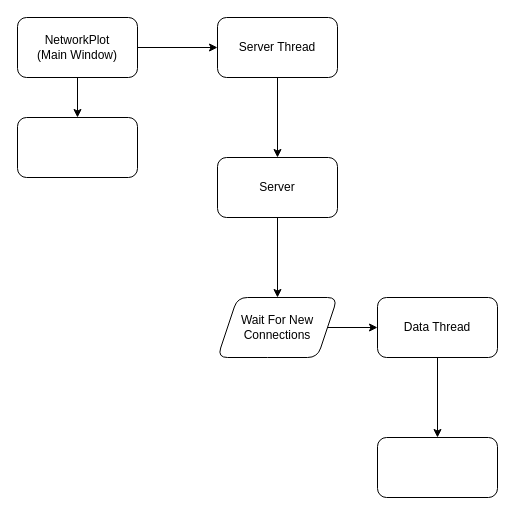
Image size: 515x515. Some labels were removed from this diagram. Each missing label, with the centre of its shape:
Collect Data: pixel 437 467
Plot: pixel 77 147
